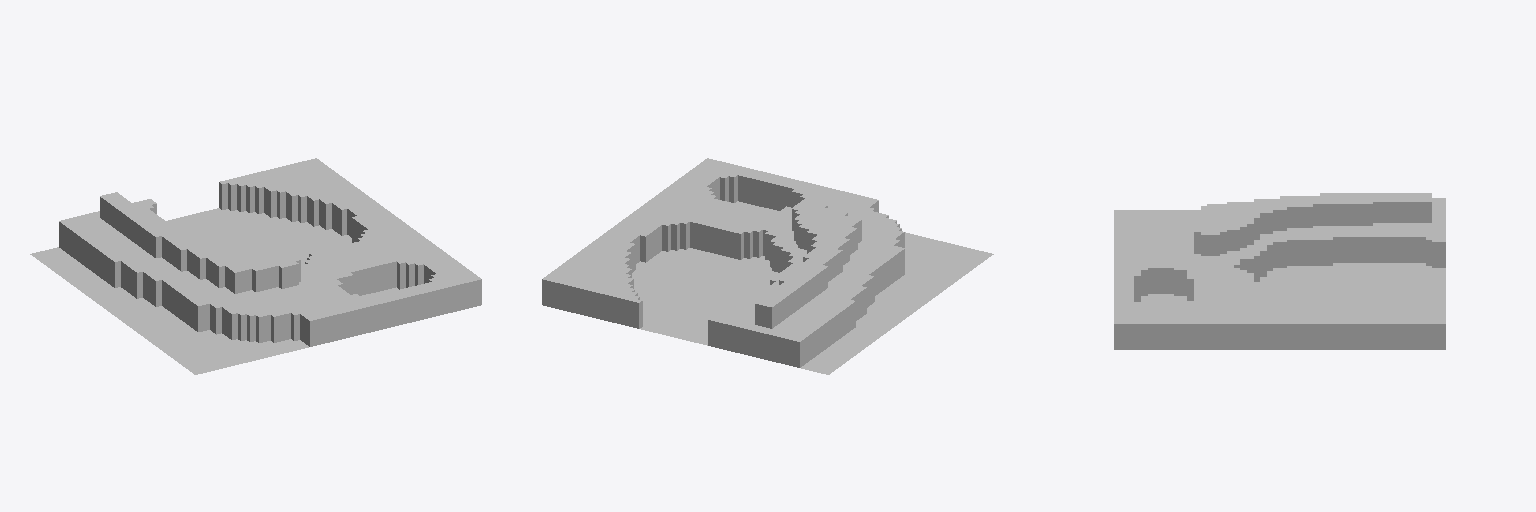
Rendered from ground-good.obj.
3 views of the same model, side by side, from view 1: azimuth 30°, elevation 25°; view 2: azimuth 150°, elevation 25°; view 3: azimuth 270°, elevation 25° (orthographic).
Parts seen in each view (by area): view 1: Plane; view 2: Plane; view 3: Plane.
Part boxes in pixels (left/top/right/bottom): Plane: left=30, top=158, right=481, bottom=374; Plane: left=542, top=158, right=993, bottom=374; Plane: left=1114, top=193, right=1445, bottom=349.
Bounding box in the file's own units: 100 × 15.8 × 100.